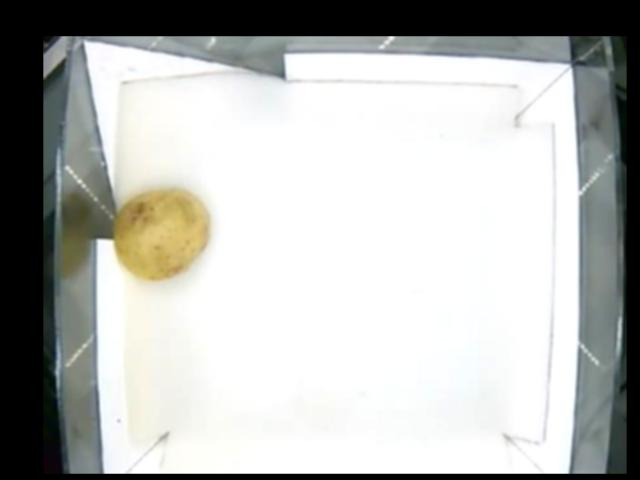Potato: (113, 189, 211, 278)
